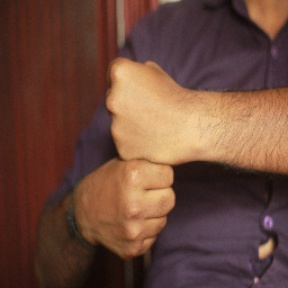G: (74, 53, 200, 264)
